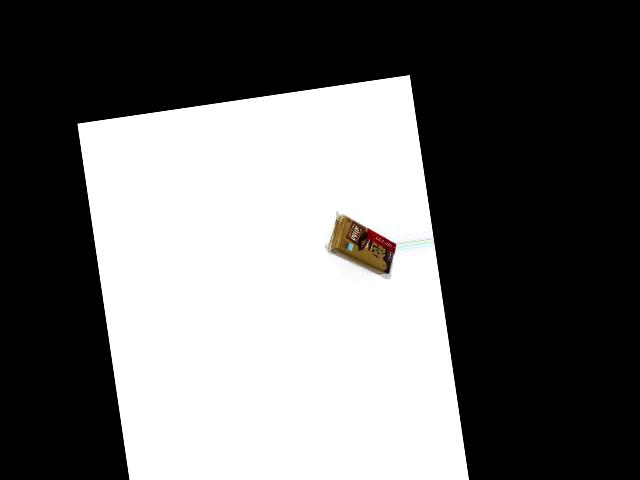chocolate: (322, 200, 399, 283)
